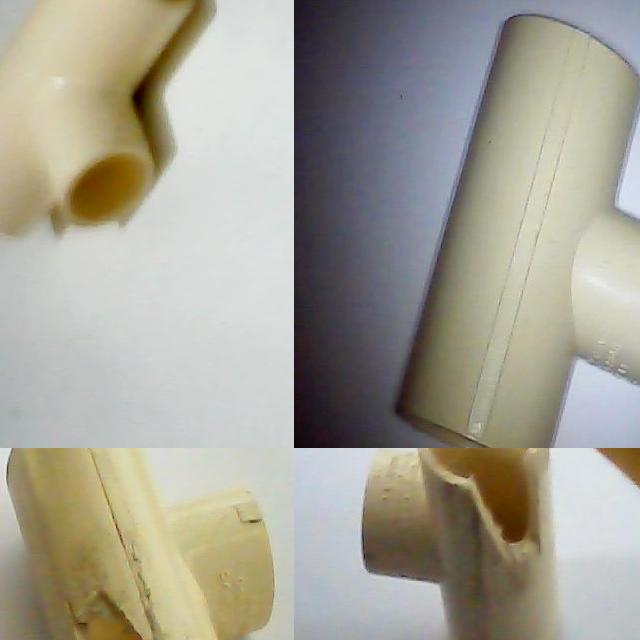Defective: (468, 458, 555, 565), (57, 593, 194, 640), (75, 595, 143, 640)
T Joint: (392, 14, 640, 448), (5, 448, 276, 640), (361, 448, 563, 640)
